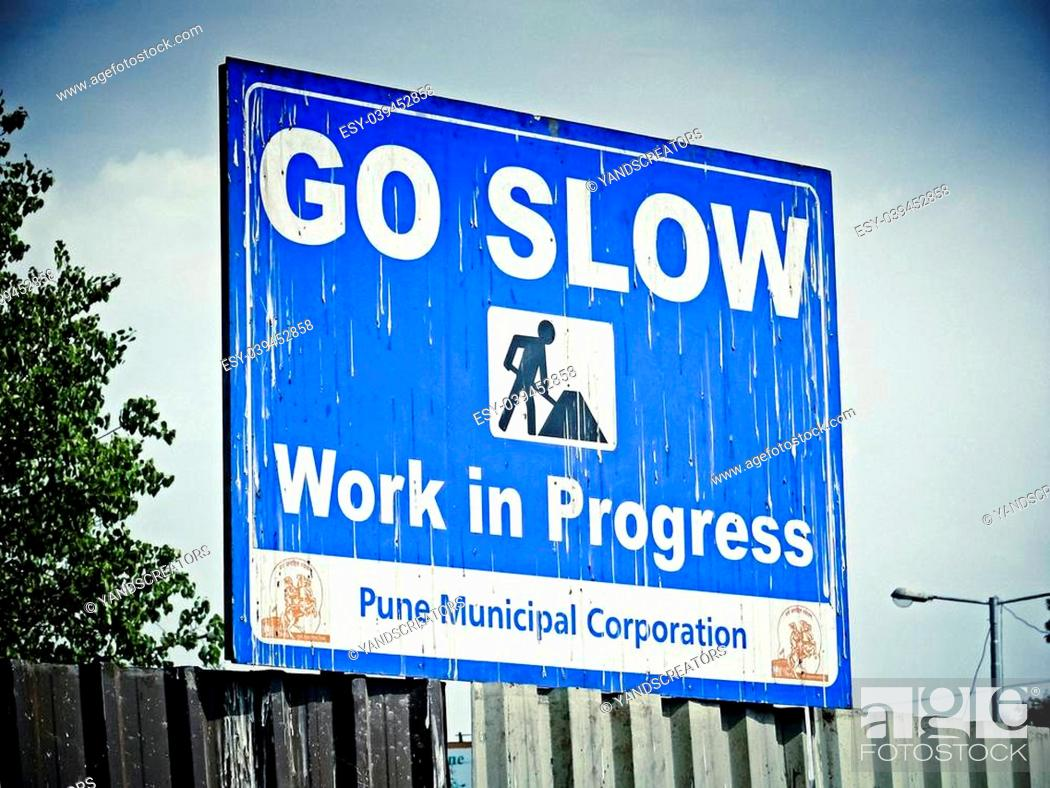caution: (464, 284, 632, 470)
